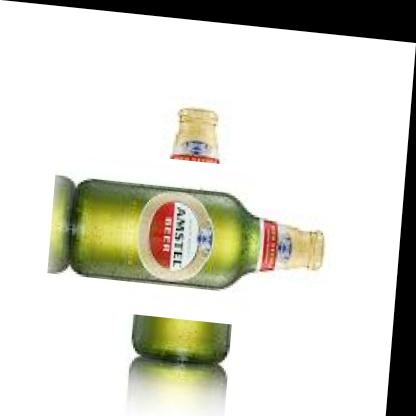trash: (49, 176, 323, 287), (132, 315, 230, 362), (170, 108, 219, 163)
